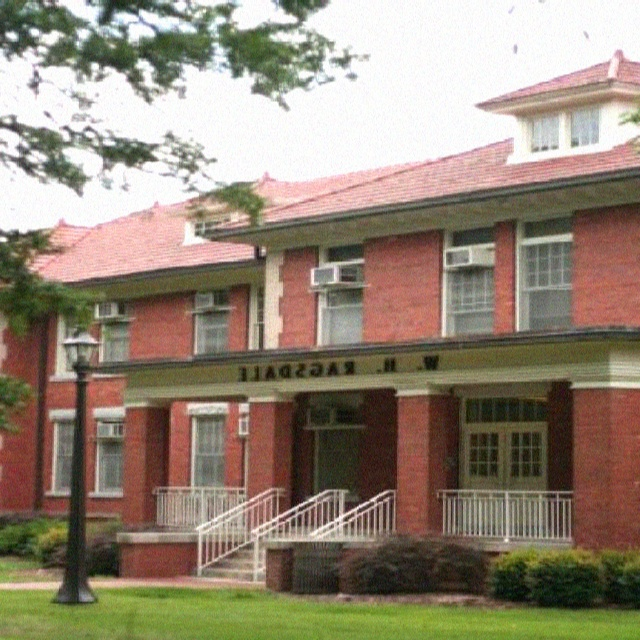stair: (175, 532, 326, 583)
